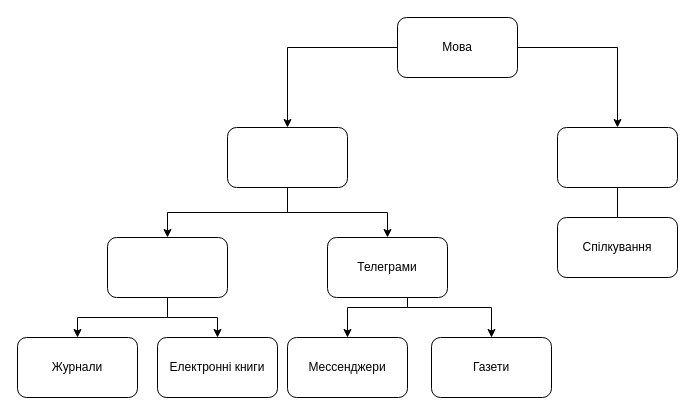
This 695x415 diagram has some shape labels left out. Each missing label, with the box of its shape:
Книги: (106, 236, 228, 298)
Письменність: (226, 126, 348, 188)
Розмовна частина: (556, 126, 678, 188)
